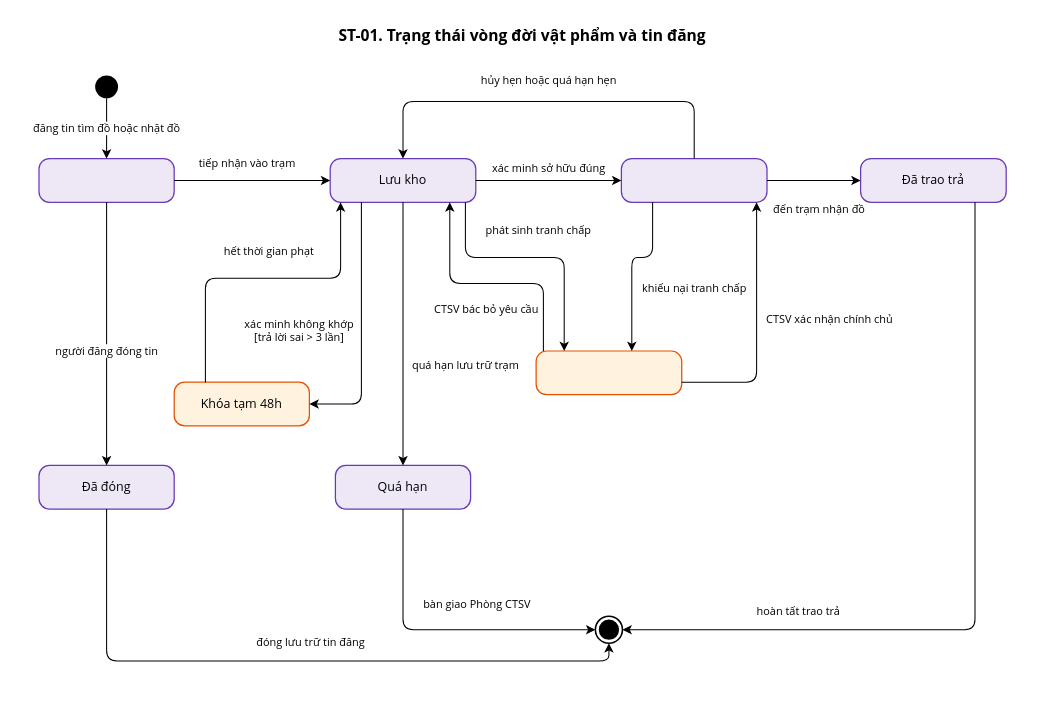
This 1044x701 diagram has some shape labels left out. Here are the shapes that lost their labels. From the top down, the centre of each, then its label:
At point (106, 179): "Mới tạo".
At point (693, 179): "Hẹn nhận".
At point (608, 372): "Tranh chấp".
